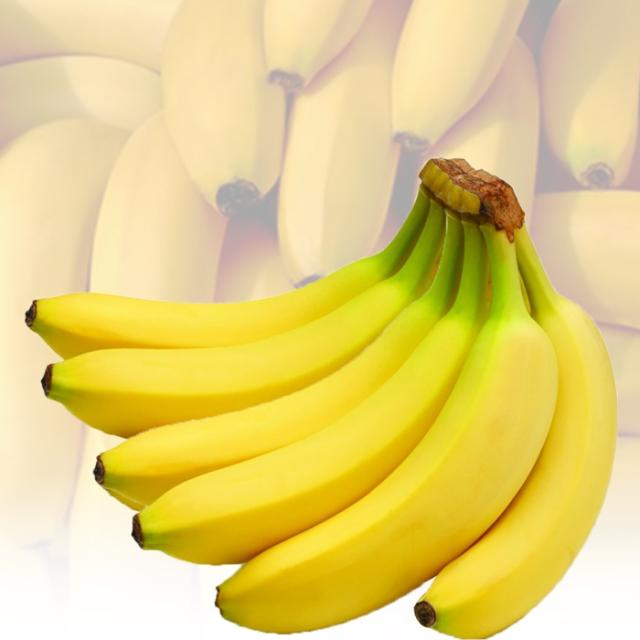Quả chuối: (10, 221, 468, 435)
